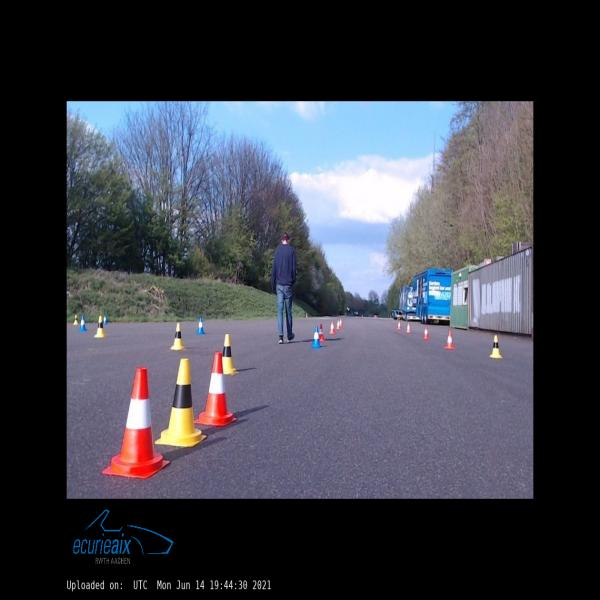blue_cone: (310, 326, 322, 348), (196, 317, 205, 334), (78, 316, 87, 331), (102, 315, 108, 325)
orange_cone: (102, 367, 169, 479), (194, 352, 237, 427), (445, 331, 454, 349), (319, 324, 325, 341), (423, 325, 429, 339), (329, 321, 335, 333), (336, 319, 341, 329), (406, 323, 411, 333), (397, 321, 402, 329), (340, 319, 342, 326)
yellow_cone: (154, 358, 206, 446), (222, 334, 238, 374), (170, 322, 185, 350), (489, 335, 502, 358), (94, 315, 105, 338), (73, 315, 78, 325)
